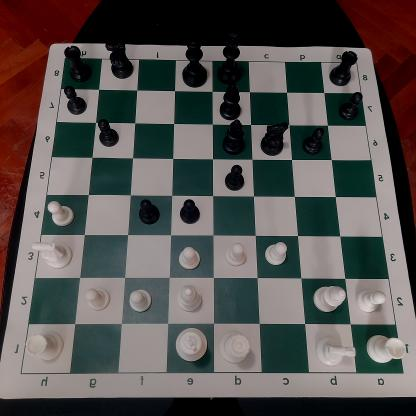black-bishop: (219, 80, 244, 122), (221, 118, 247, 157)
black-king: (180, 28, 209, 89)
black-knight: (103, 39, 136, 81), (259, 119, 290, 158)
black-pawn: (301, 124, 327, 157), (337, 91, 364, 122), (93, 117, 120, 148), (62, 84, 88, 116), (136, 198, 162, 226), (223, 164, 246, 192), (178, 199, 202, 225)
black-queen: (215, 32, 244, 85)
black-rook: (61, 44, 93, 83), (328, 50, 360, 88)
white-bishop: (312, 284, 347, 314), (176, 284, 204, 312)
white-king: (173, 324, 209, 366)
white-knight: (29, 238, 74, 272), (313, 335, 358, 368)
white-pawn: (354, 287, 388, 314), (46, 198, 75, 228), (82, 285, 112, 313), (223, 240, 249, 269), (263, 238, 289, 266), (126, 288, 154, 313), (176, 245, 202, 271)
white-queen: (218, 328, 250, 366)
white-rook: (365, 332, 407, 366), (24, 331, 64, 363)
